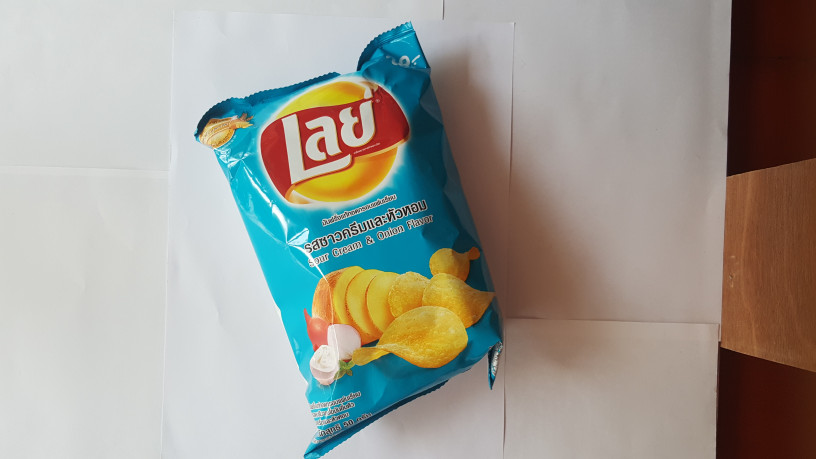lays-onion: (193, 29, 505, 459)
